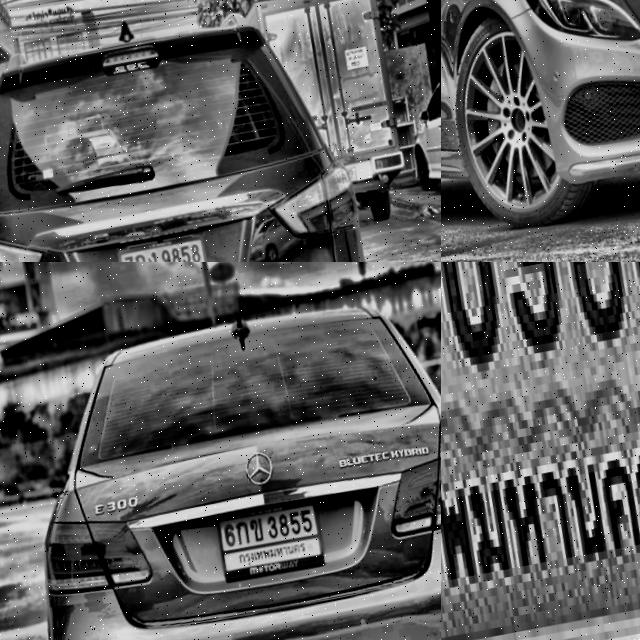license-plate: (441, 262, 640, 640), (216, 496, 329, 582), (115, 233, 220, 262)
